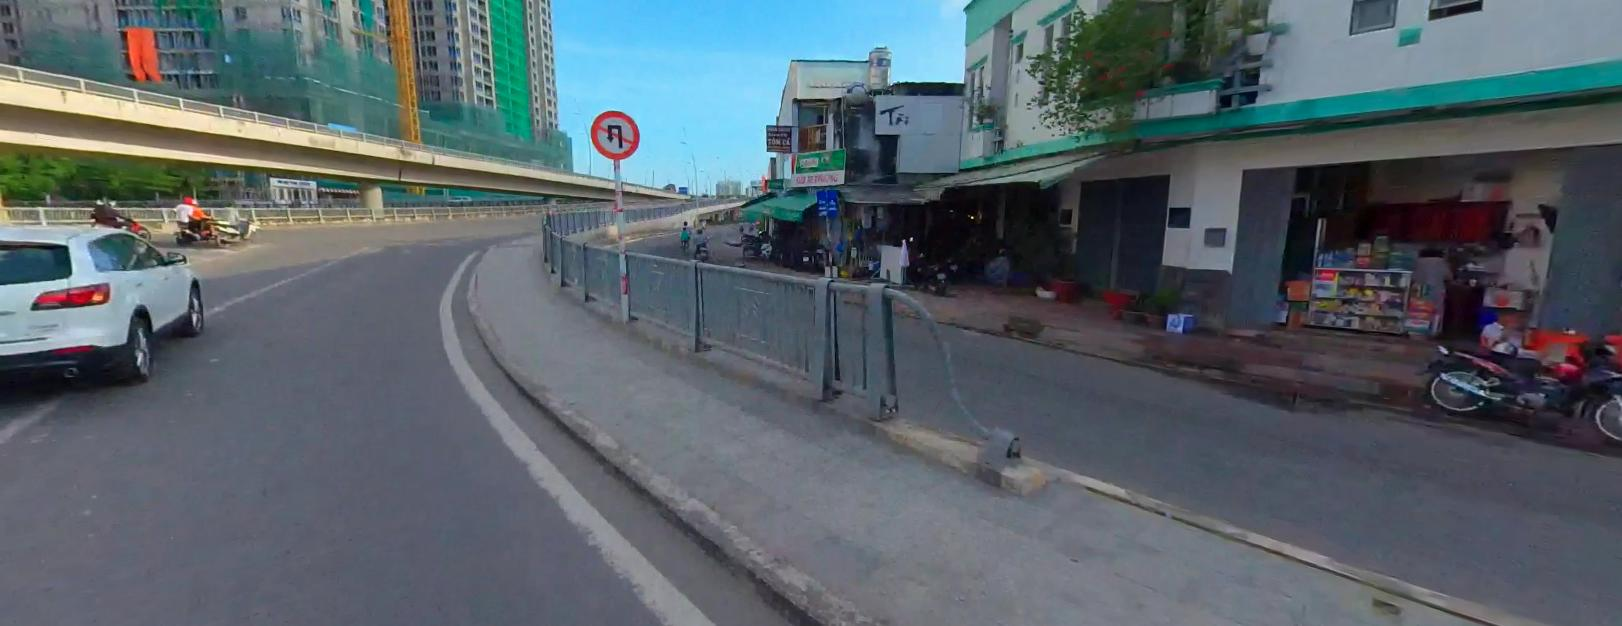Cam re: (588, 106, 640, 160)
